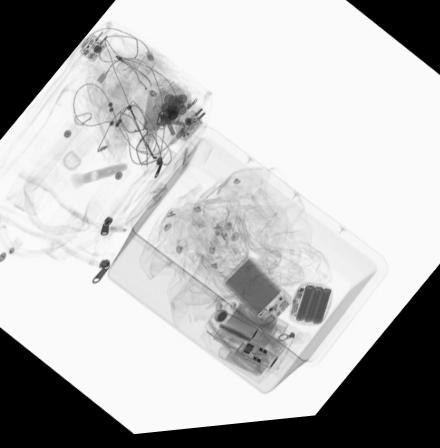Powerbank: (221, 260, 294, 336), (287, 288, 335, 335)
